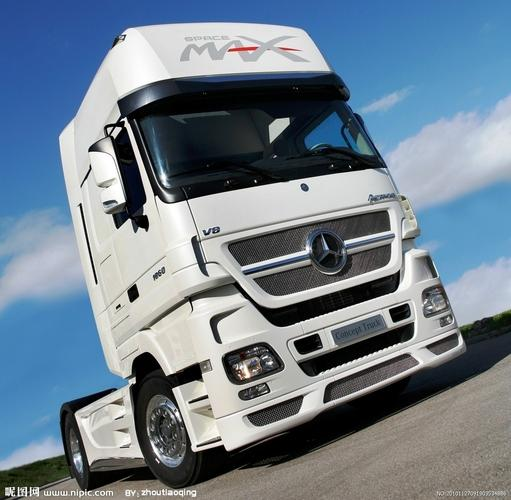卡车: (25, 17, 483, 490)
